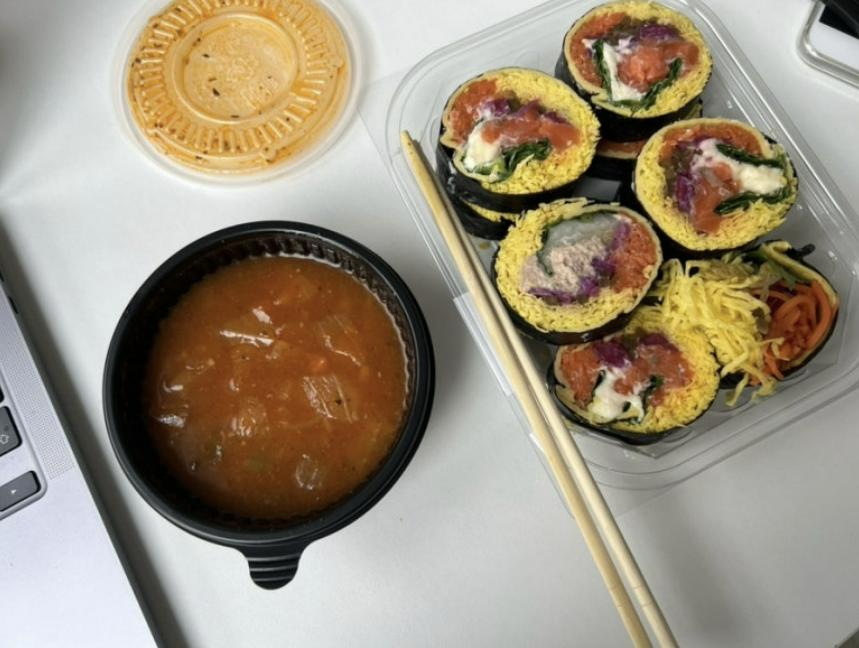Lunch Box: (359, 0, 858, 647), (116, 0, 360, 182)
cup: (103, 222, 434, 588)
